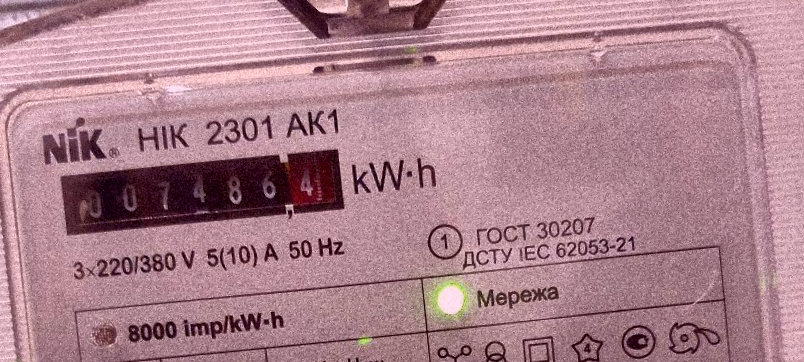0: (82, 185, 105, 221), (118, 180, 140, 214)
4: (187, 170, 208, 207), (295, 164, 315, 200)
6: (258, 168, 280, 201)
7: (150, 177, 176, 212)
8: (224, 172, 245, 209)
screen: (49, 136, 354, 249)
